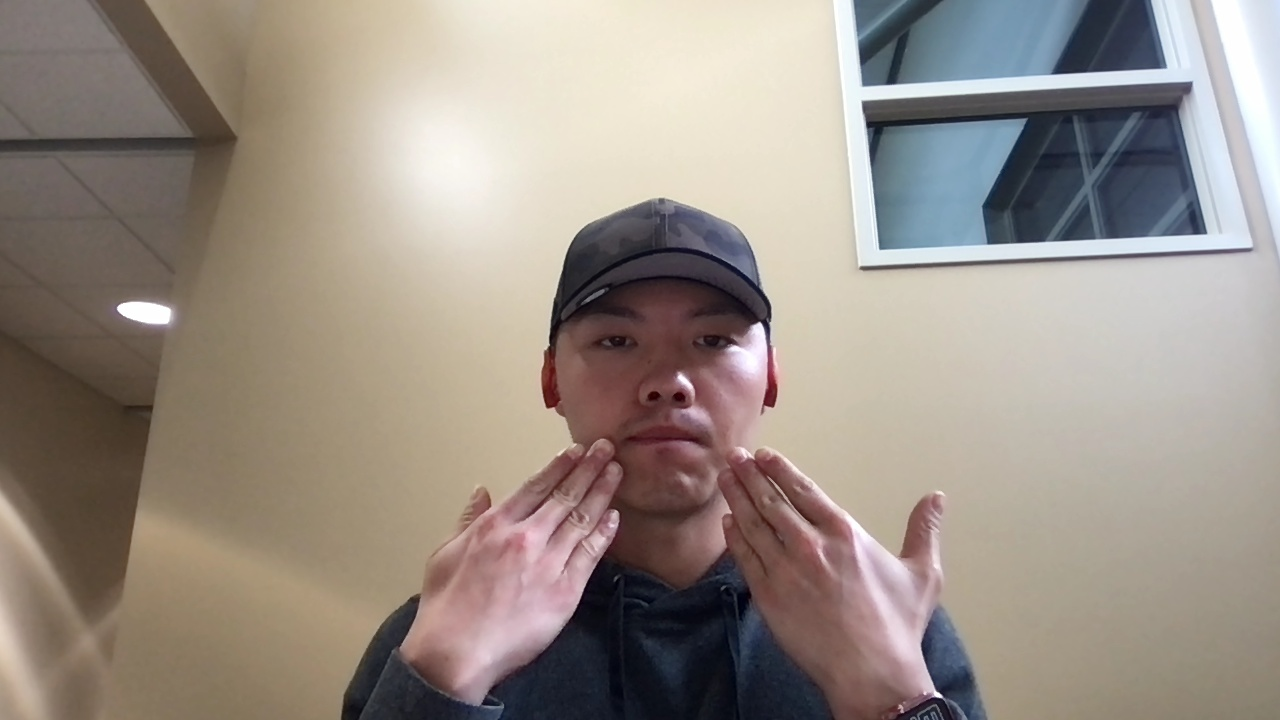Thank You: (417, 435, 946, 686)
